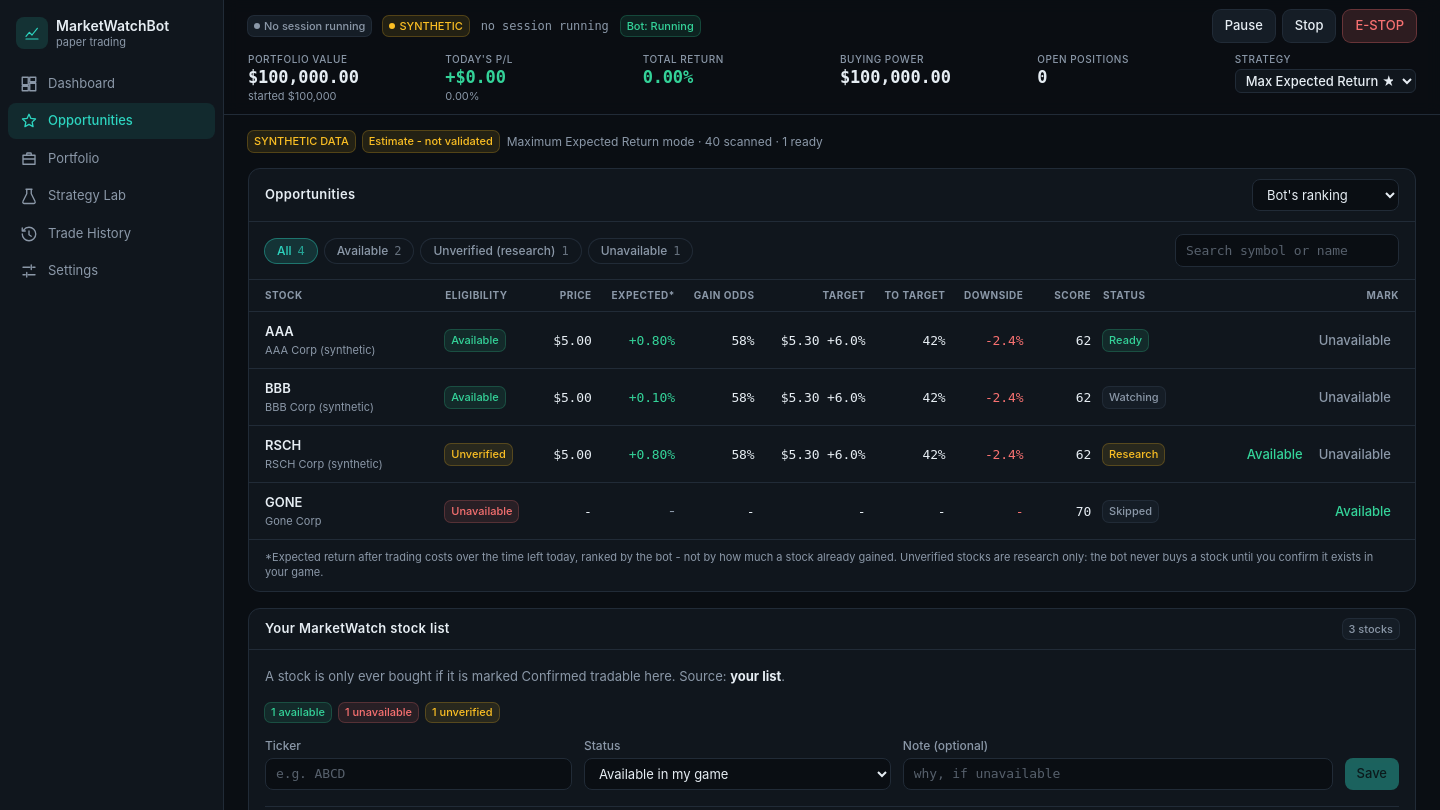
Test case: opportunities and eligibility › explains a research candidate as 'not verified - will not be bought'
This screenshot has width=1440, height=810.
Click the cell named "Explain RSCH". click: coordinates (347, 454)
box: [249,426,445,483]
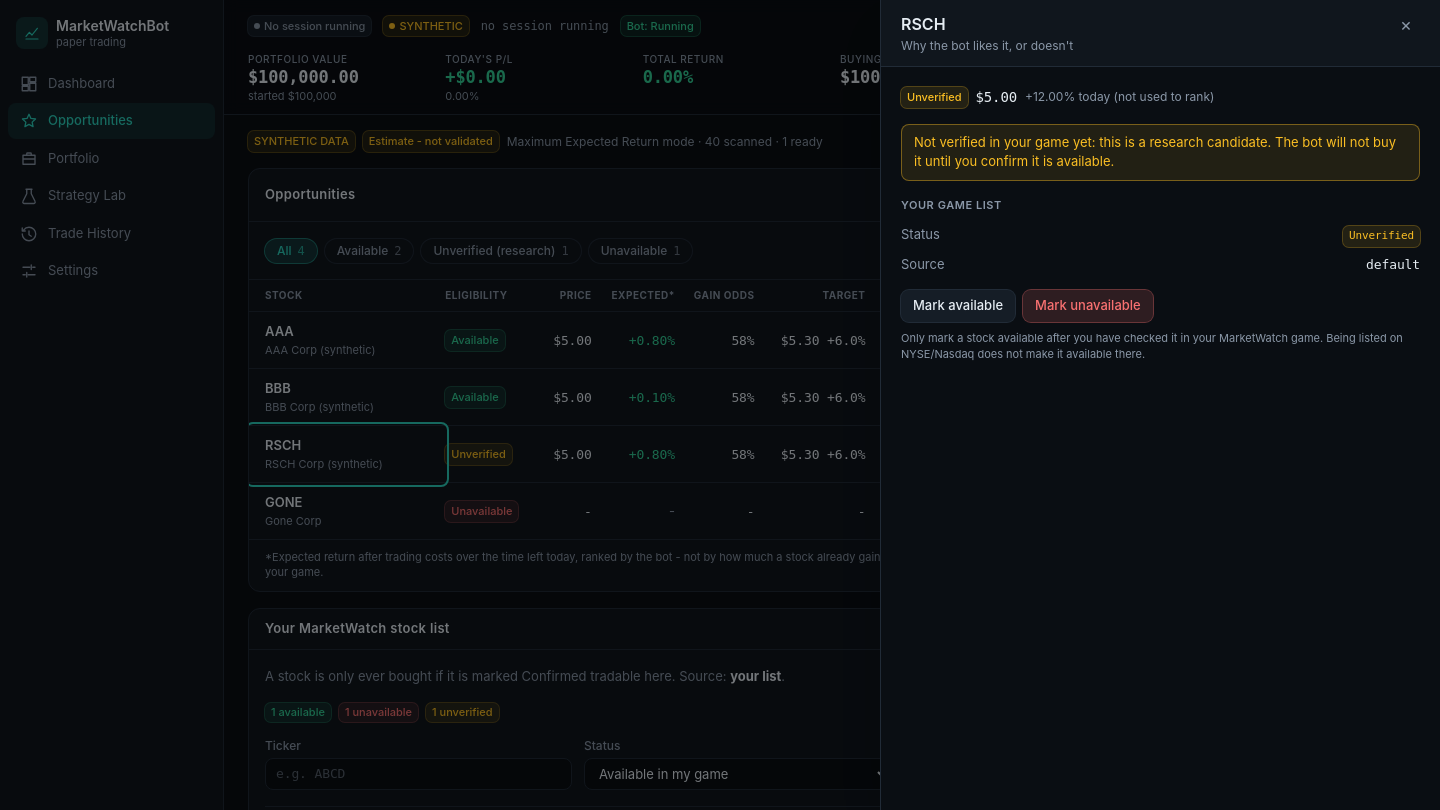
expect the text "research candidate. The bot will not buy it" is shown: met, box [914,134,1396,169]
expect the text "+12.00% today (not used to rank)" is shown: met, box [1025,89,1214,105]
